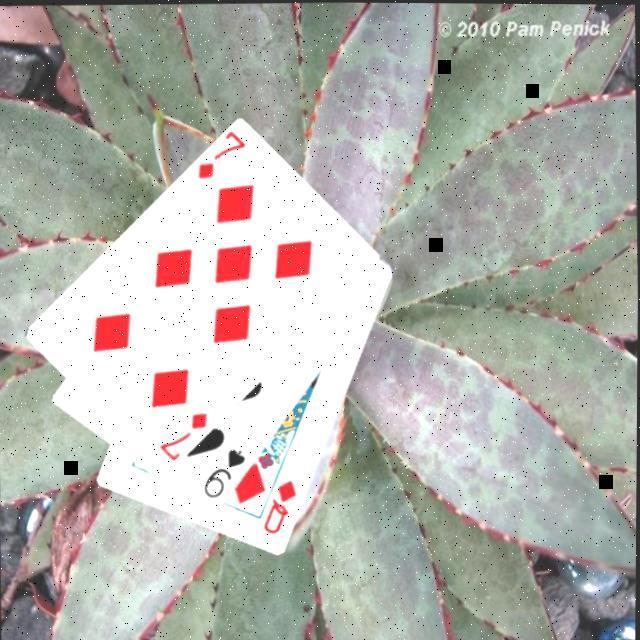7D: (154, 407, 210, 462), (192, 128, 248, 181)
9S: (200, 444, 248, 501)
QD: (259, 474, 299, 536)
